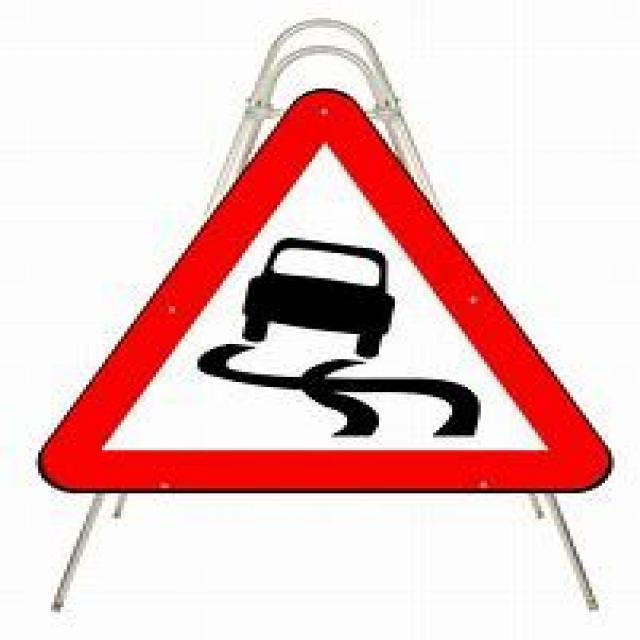SLIPPERY_ROAD: (32, 88, 608, 490)
